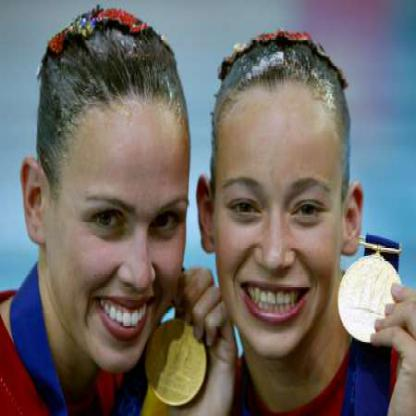face: (45, 64, 193, 379), (214, 62, 346, 361)
